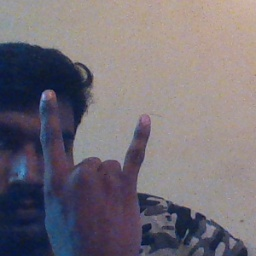V: (33, 86, 159, 254)
